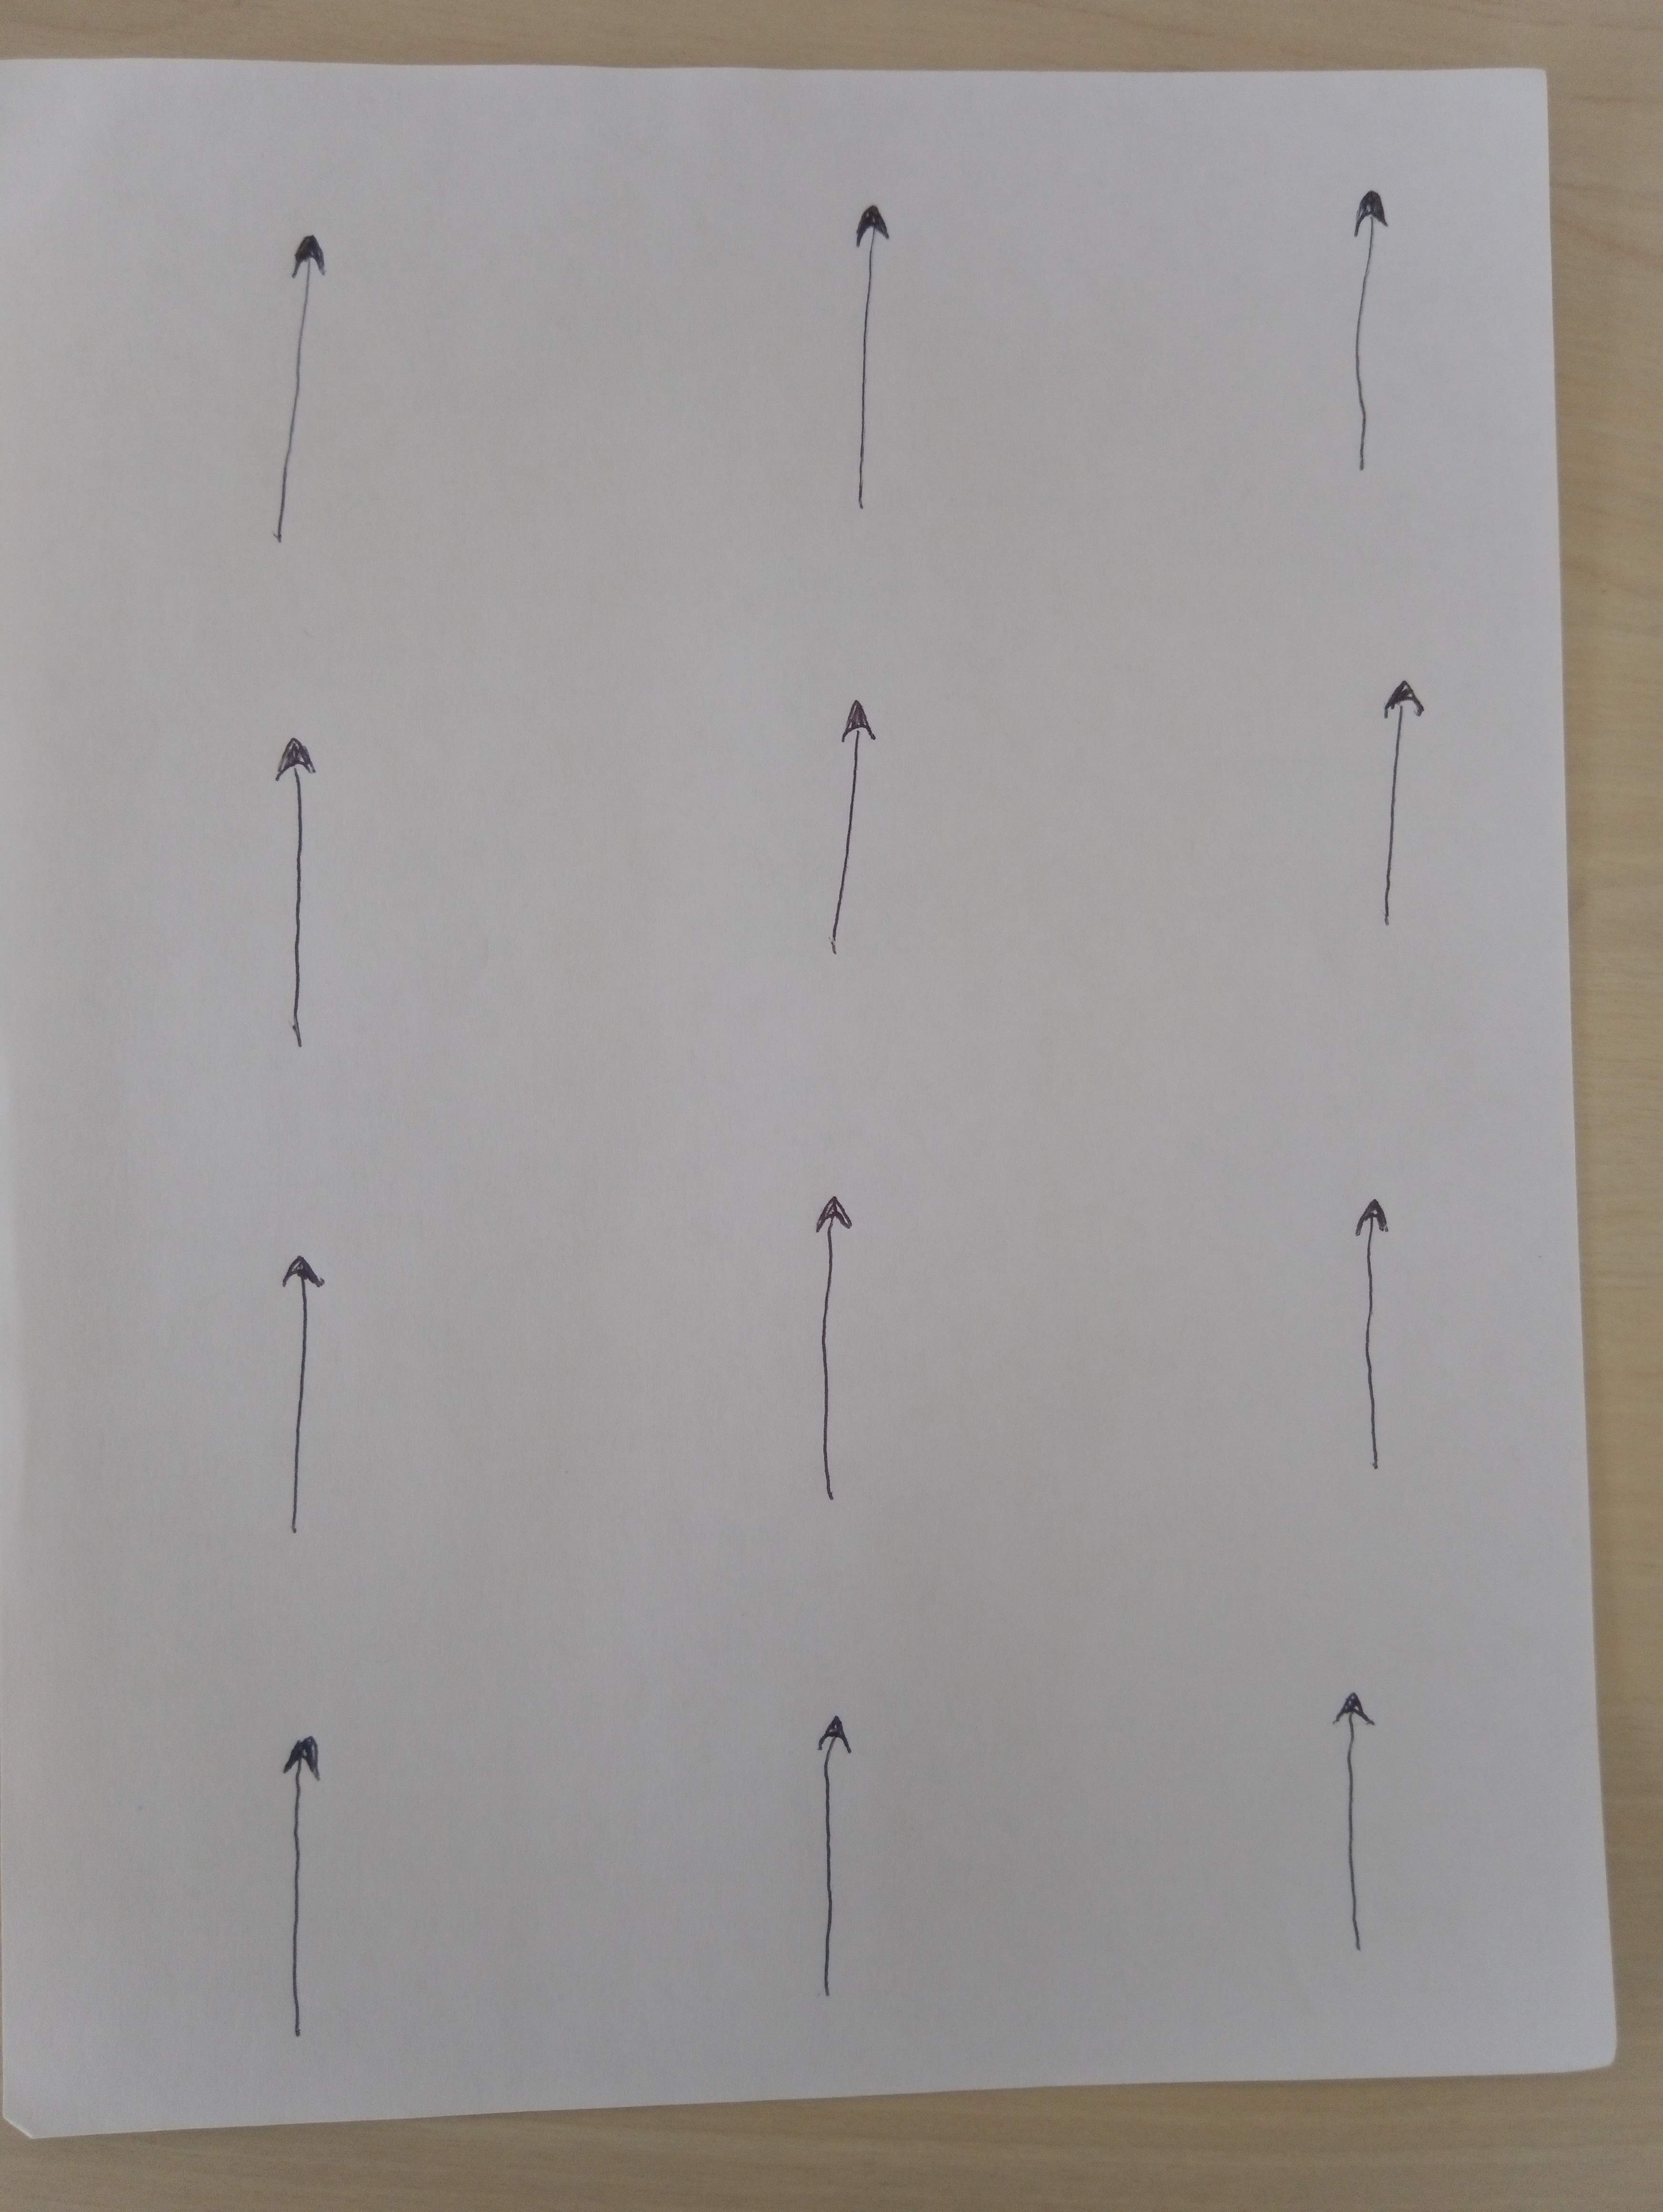arrow_line_up: (776, 1182, 877, 1519), (819, 187, 915, 536), (807, 1690, 908, 2002), (260, 1229, 360, 1538), (1333, 183, 1420, 496), (267, 1723, 349, 2053), (1315, 1685, 1408, 1961), (257, 229, 334, 559), (1345, 1194, 1427, 1491), (267, 732, 337, 1054), (818, 693, 896, 964), (1368, 679, 1438, 938)
